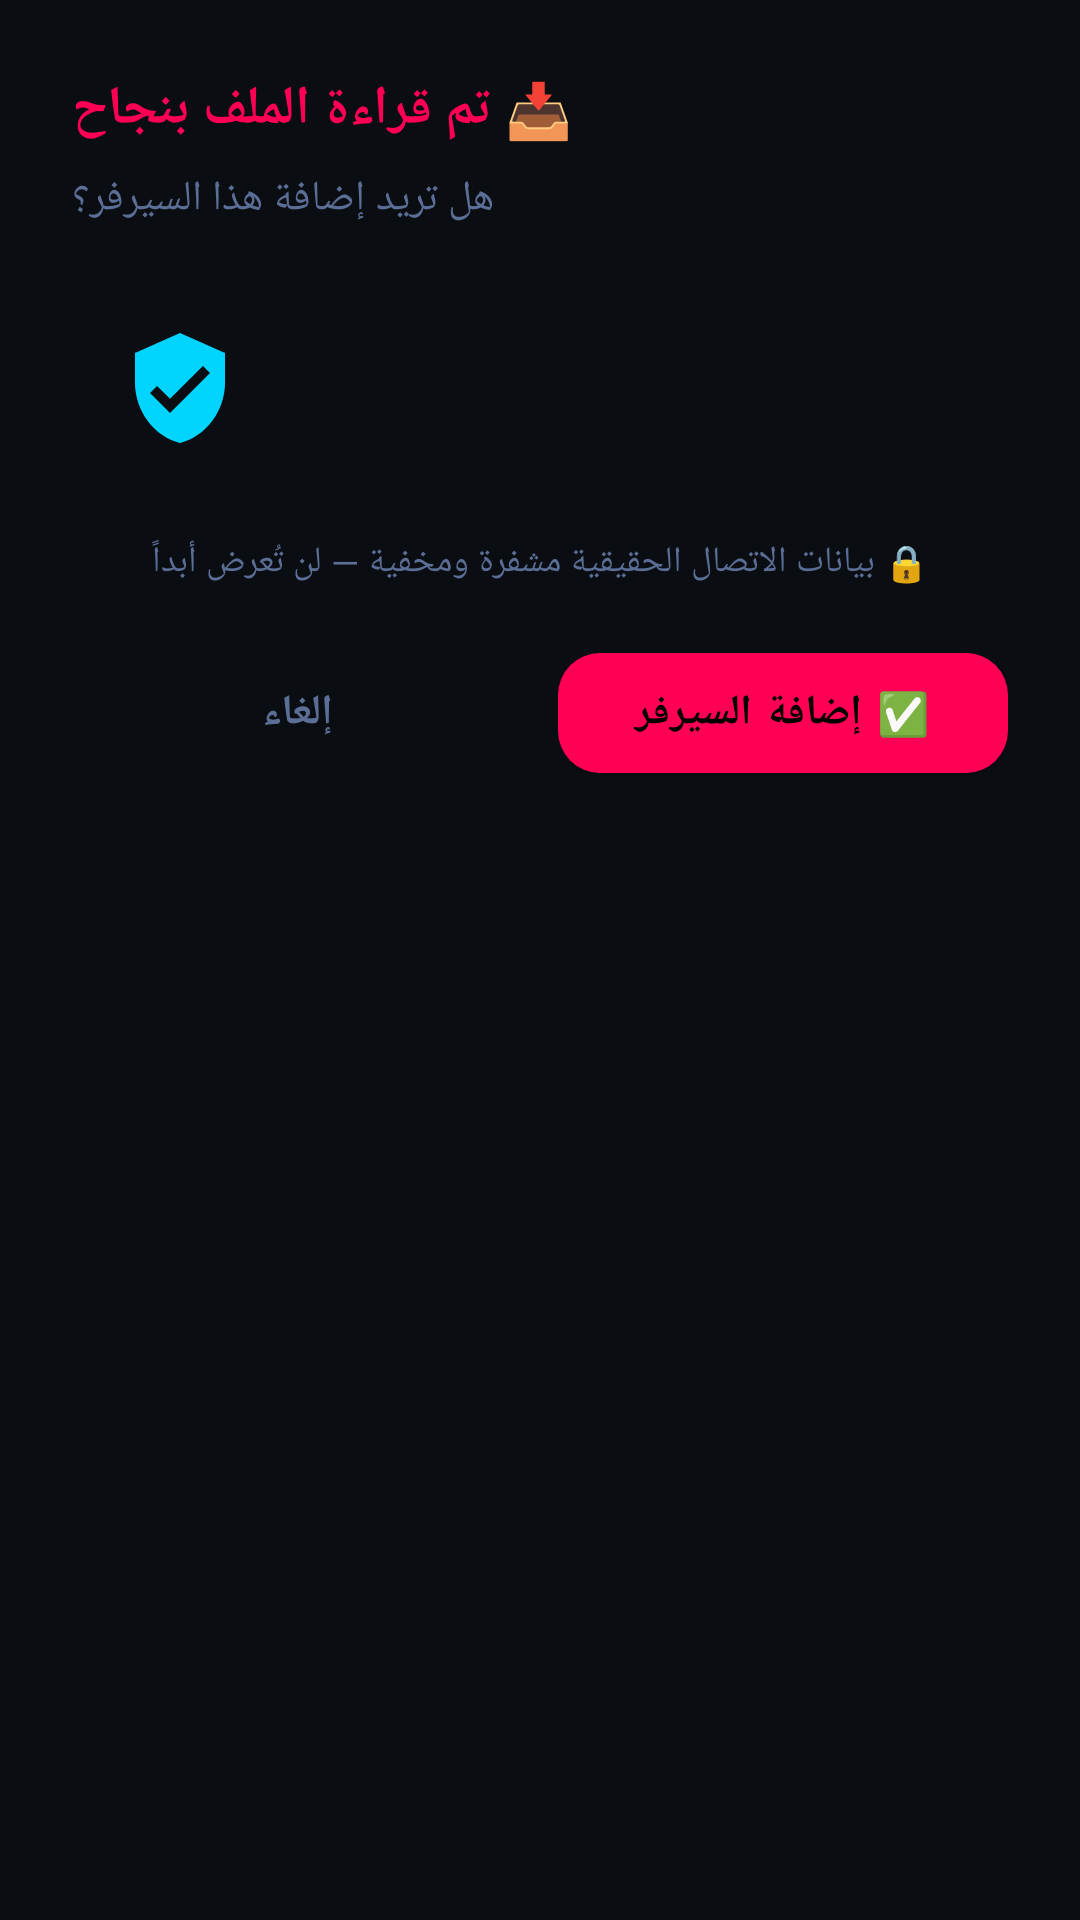

Where icons sit on this 1080×1920 app screen, as {"x1": x1, "y1": y1, "x2": x2, "y2": y2}:
shield: {"x1": 135, "y1": 333, "x2": 225, "y2": 443}
